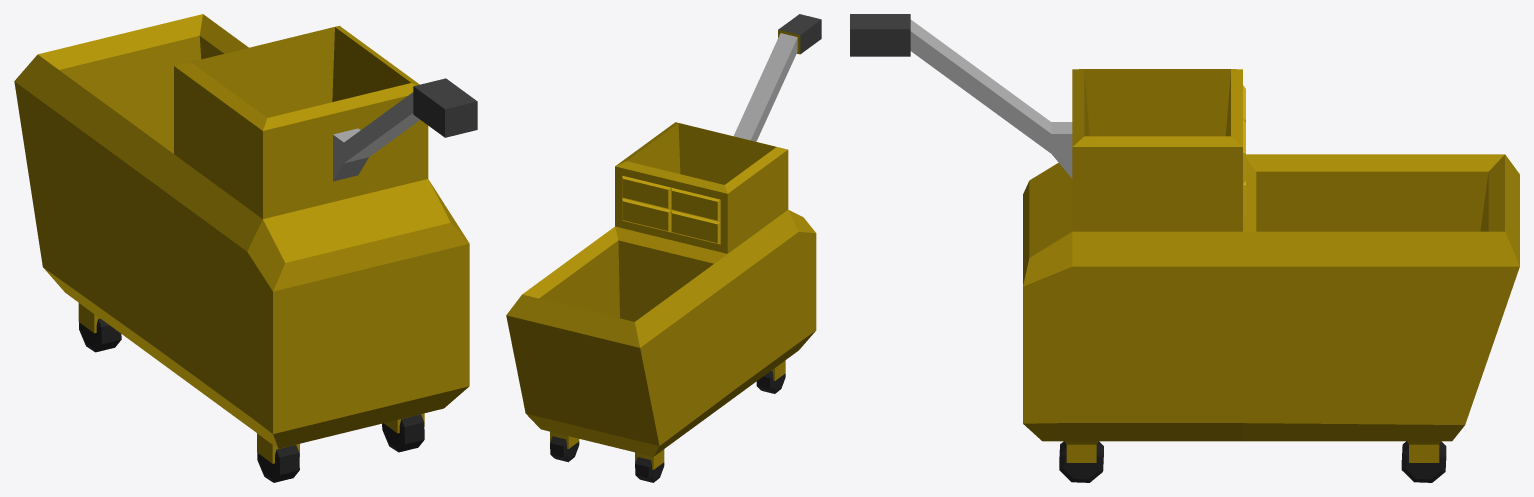
File: MopBucketV1Empty.fbx
3 views of the same model, side by side, from view 1: azimuth 30°, elevation 25°; view 2: azimuth 150°, elevation 25°; view 3: azimuth 270°, elevation 25° (orthographic). The views are drawn at different scales.
Parts seen in each view (by area): view 1: MopBucketV1Empty; view 2: MopBucketV1Empty; view 3: MopBucketV1Empty.
Part boxes in pixels (x1=…): MopBucketV1Empty: x1=14, y1=14, x2=477, y2=482; MopBucketV1Empty: x1=506, y1=14, x2=821, y2=482; MopBucketV1Empty: x1=850, y1=14, x2=1519, y2=482.
Bounding box in the file's own units: 27.96 × 60.47 × 85.88.
